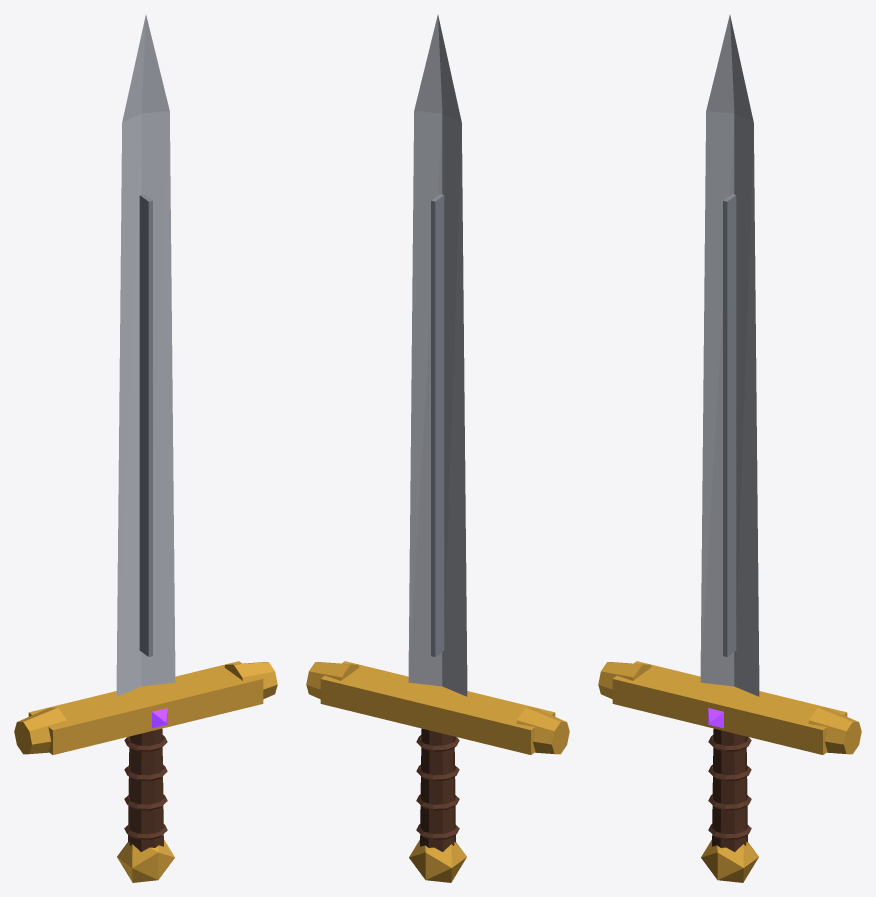
File: Sword.glb
3 views of the same model, side by side, from view 1: azimuth 30°, elevation 25°; view 2: azimuth 150°, elevation 25°; view 3: azimuth 330°, elevation 25° (orthographic).
Parts seen in each view (by area): view 1: Sword; view 2: Sword; view 3: Sword.
Part boxes in pixels (x1,y1,x2,y2): Sword: (14,15,277,882); Sword: (306,15,569,882); Sword: (598,15,861,882).
Bounding box in the file's own units: 0.35 × 1.18 × 0.0806.
